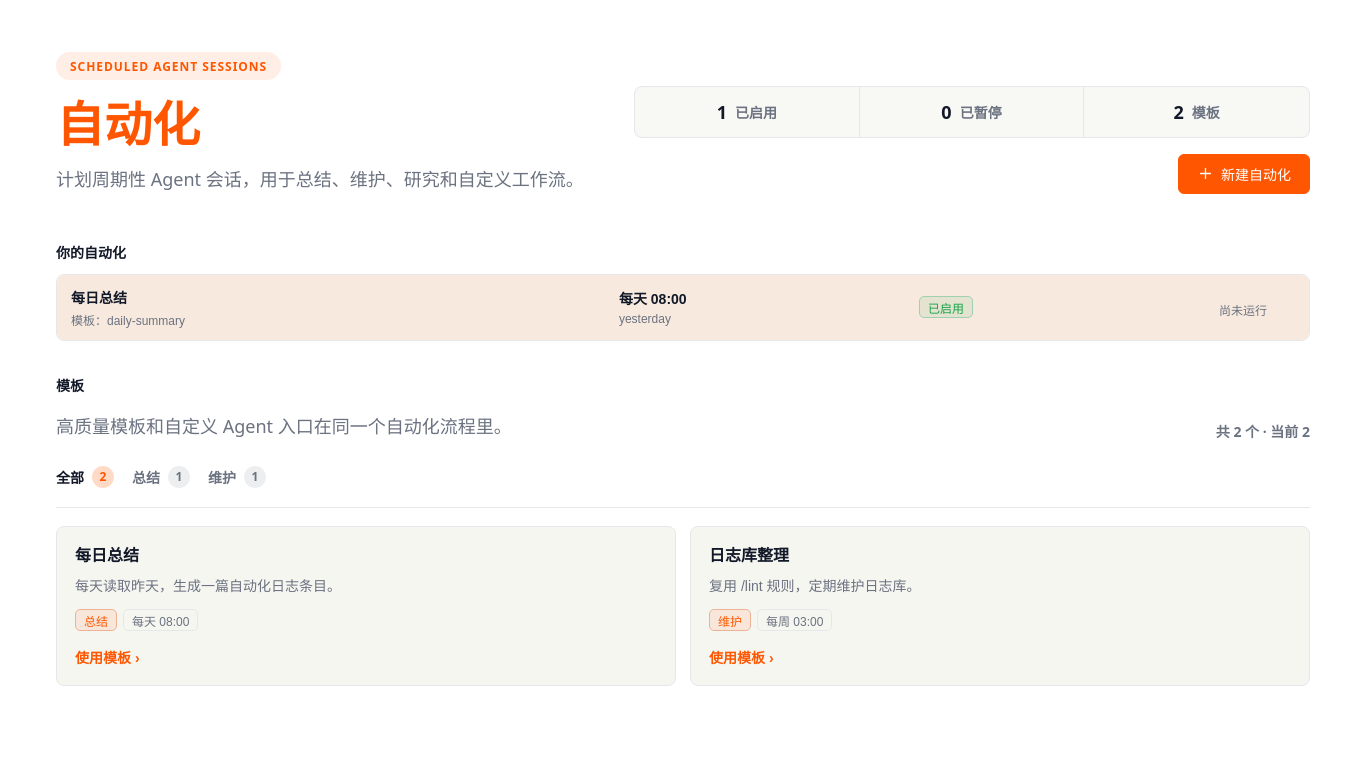
Scenario: AutomationWorkbench › shows user automations first and keeps templates visible as the creation library
Check: the heading "自动化" is shown, box [56,90,200,154]
Check: the button "新建自动化" is shown, box [1178,154,1310,194]
Click the button with aria-label "使用模板：日志库整理" at (749, 555), box [690,526,1310,686]
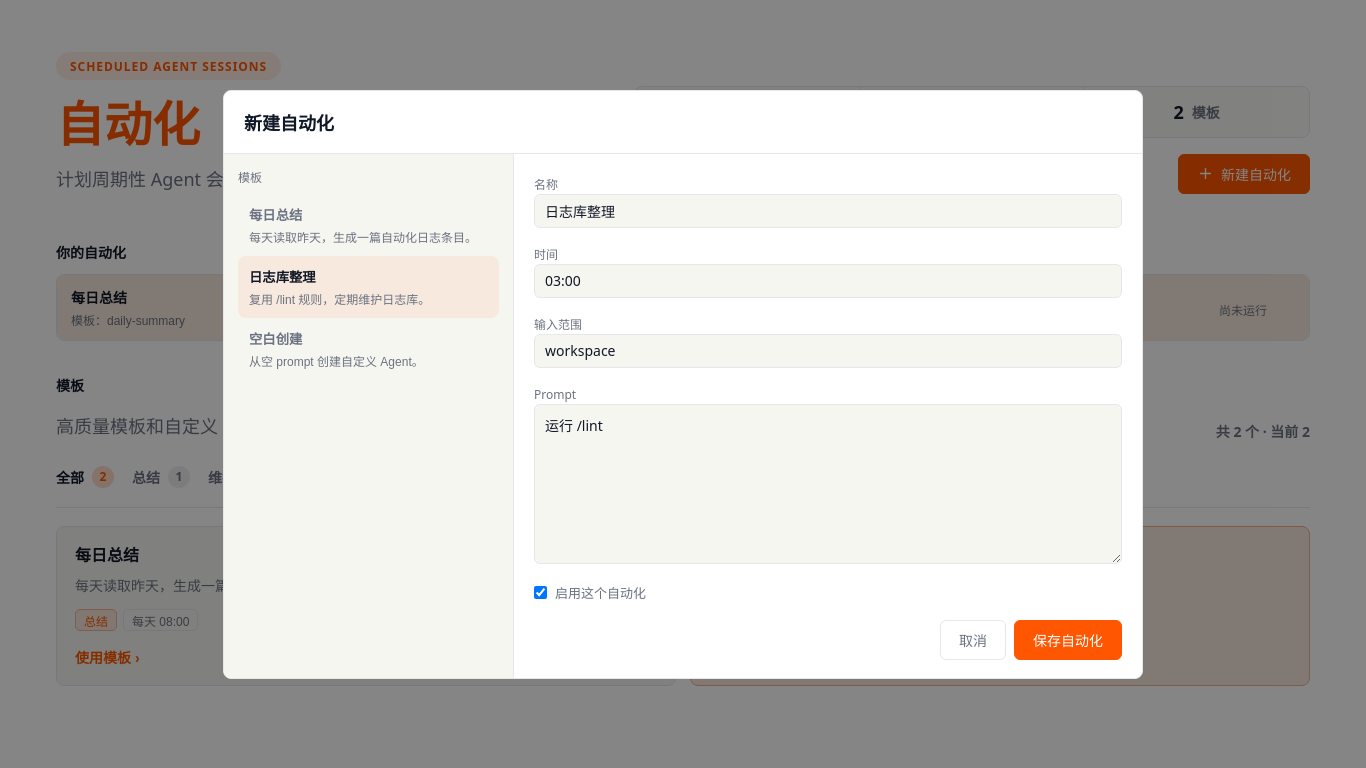
Check: the heading "新建自动化" is shown, box [244,110,334,134]
Check: the field showing "日志库整理" is shown, box [534,194,1122,228]
